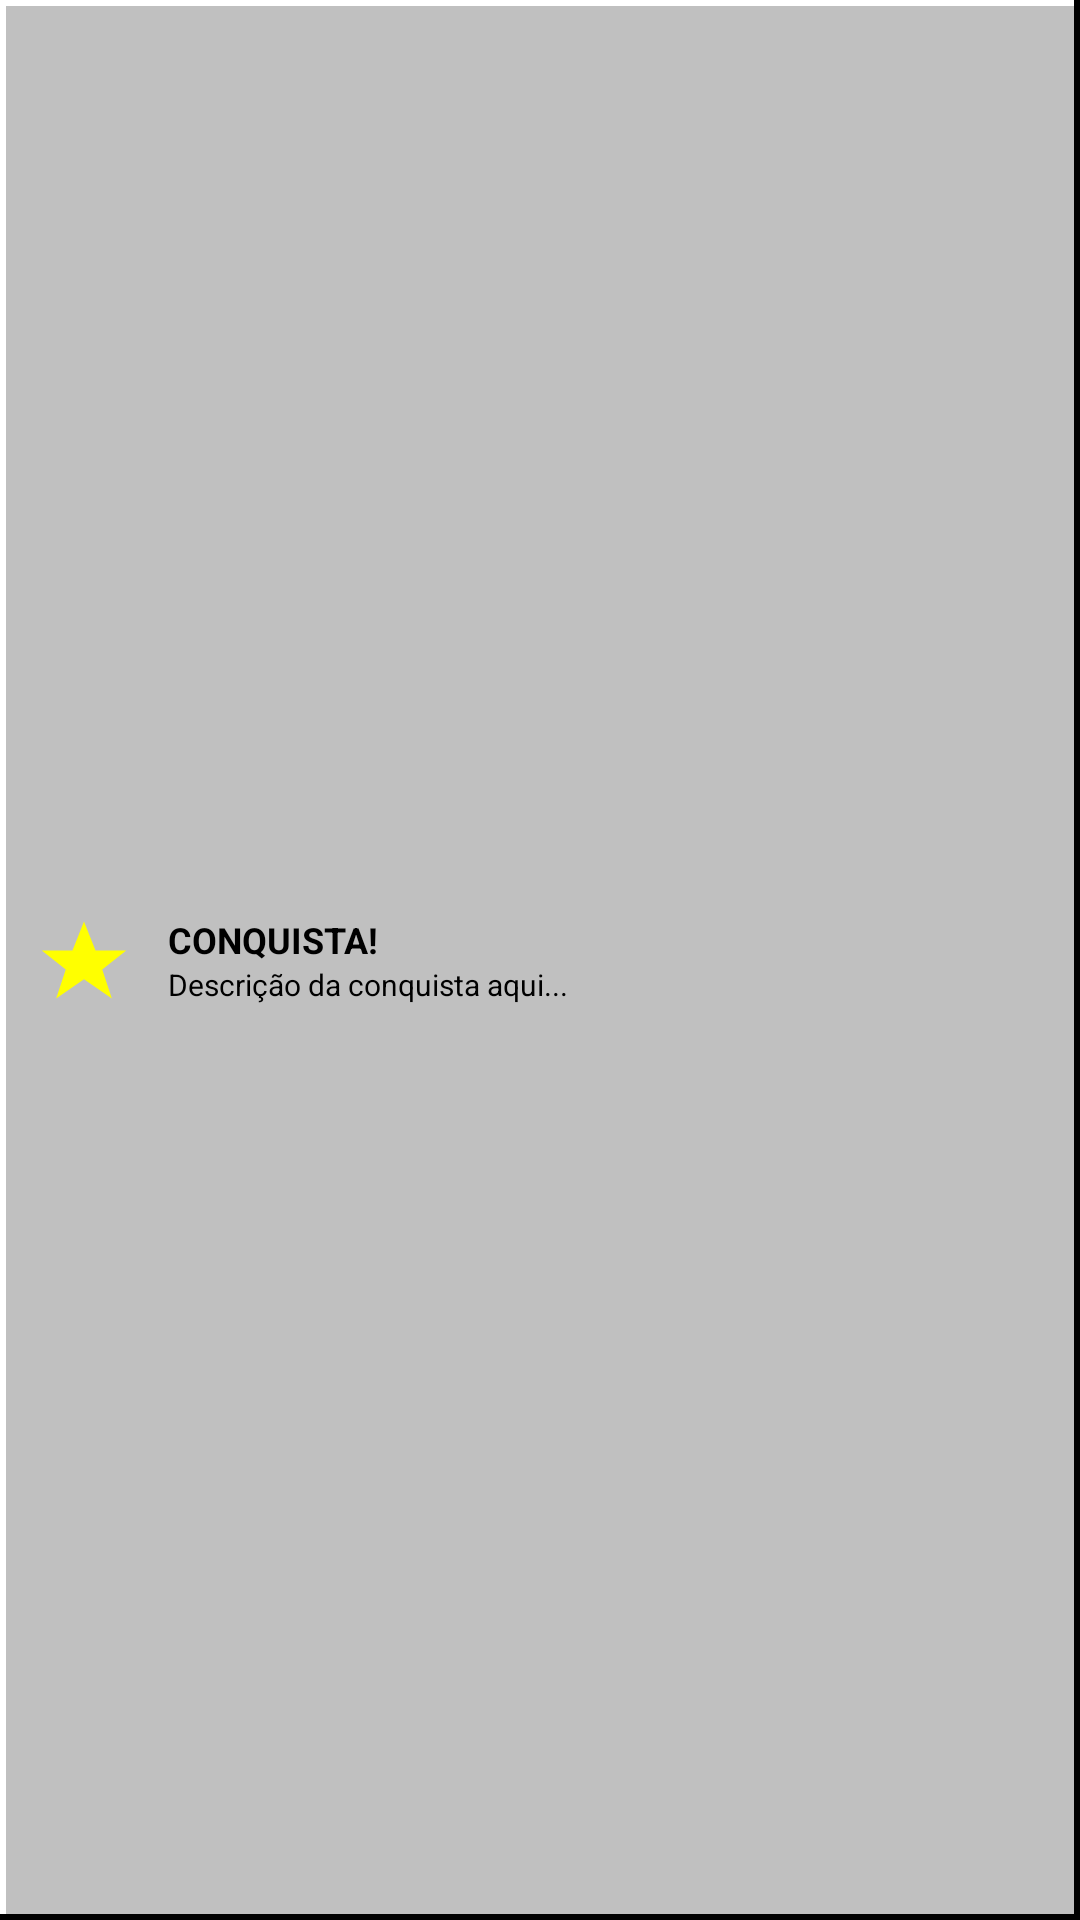

Where to tap for icons on this 1080px×1920px app screen, as (x,y):
star: (84,960)
